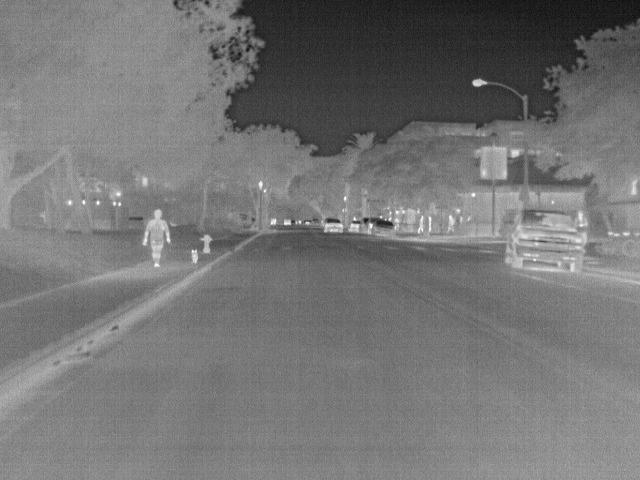car: (505, 207, 587, 274), (370, 220, 399, 241), (323, 218, 346, 236), (349, 218, 365, 232)
dog: (190, 248, 202, 266)
person: (142, 209, 172, 266), (574, 207, 589, 229), (416, 212, 428, 234), (446, 213, 459, 233), (427, 214, 434, 232)
